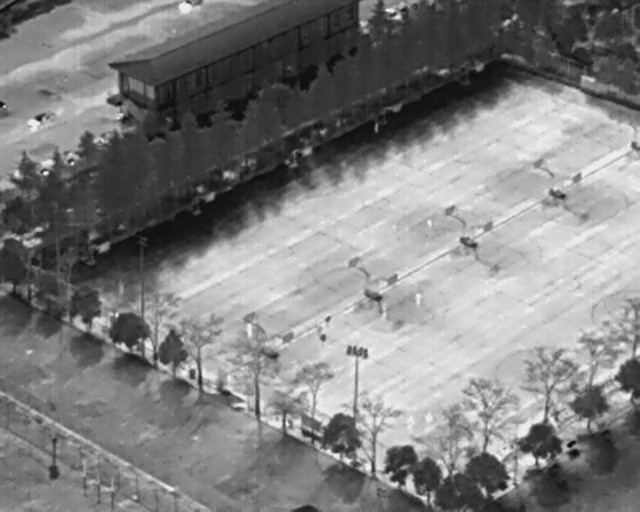Car: (22, 108, 55, 135), (381, 0, 407, 24), (178, 0, 204, 13)
Person: (319, 323, 327, 348), (413, 291, 423, 310), (244, 321, 253, 340), (424, 409, 433, 426), (407, 413, 414, 432), (426, 215, 435, 229), (373, 120, 381, 135)
